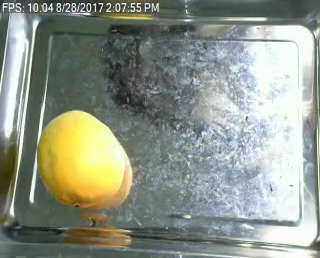Mango: (37, 108, 126, 208)
